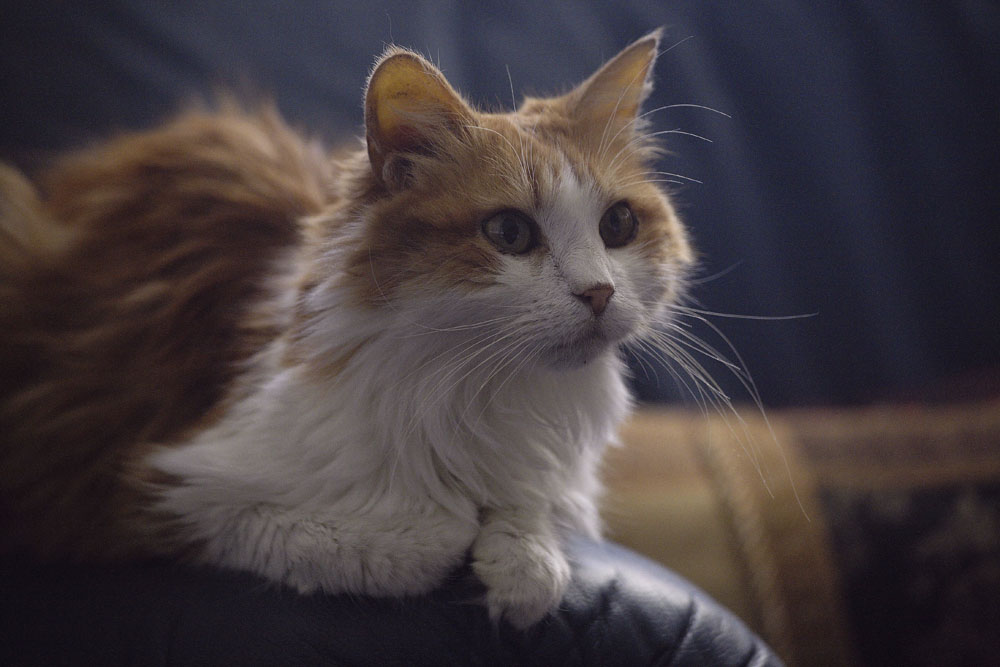cat: (0, 26, 818, 635)
